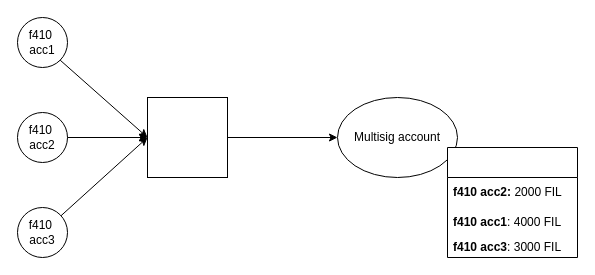
The diagram is 595 pixels wide and 275 high, and some of its shapes have lost their labels. Each missing label, with the box of its shape:
accouting: (446, 146, 578, 258)
filForward contract: (146, 96, 228, 178)
